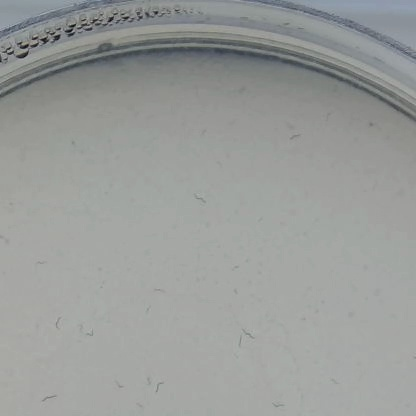worm: (235, 327, 262, 349), (73, 322, 101, 343), (325, 367, 351, 388), (286, 123, 309, 145), (50, 309, 70, 332), (37, 391, 63, 405), (269, 396, 288, 411), (188, 194, 209, 207), (150, 284, 172, 296), (112, 378, 130, 392), (29, 257, 49, 269), (153, 381, 173, 393), (142, 374, 157, 387), (139, 305, 153, 317)
